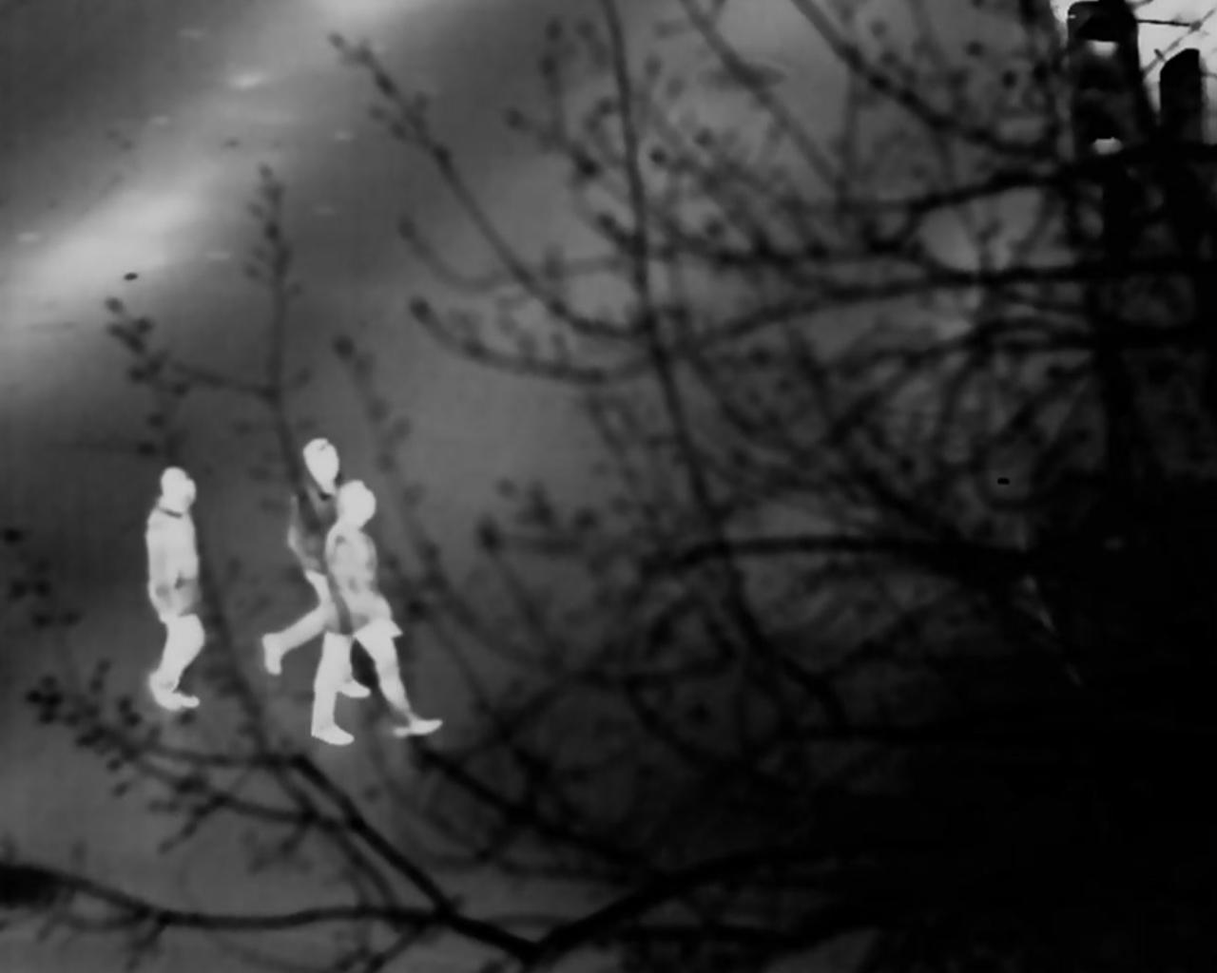person: (319, 471, 435, 750), (284, 422, 349, 688), (153, 467, 220, 706)
